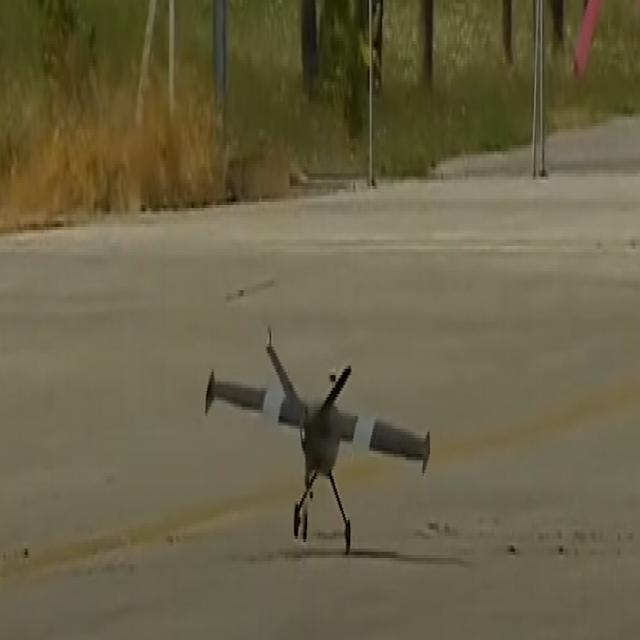iha: (184, 320, 440, 554)
